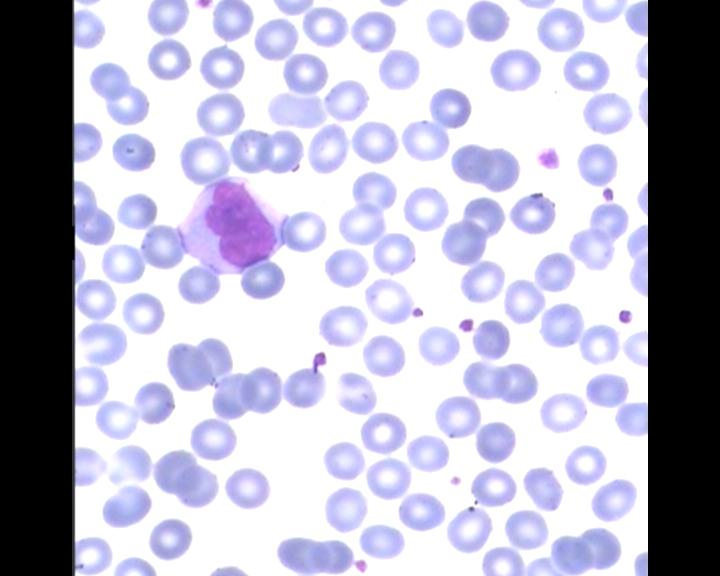mono: (177, 176, 286, 278)
